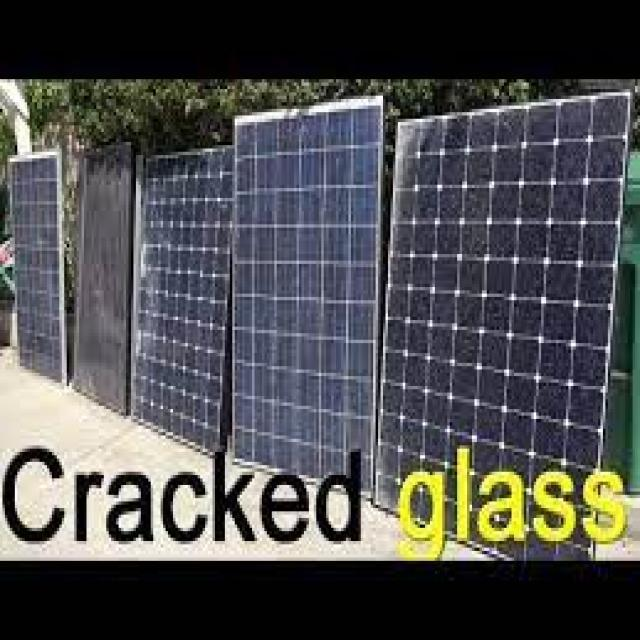faulty: (18, 123, 622, 493), (394, 112, 397, 121)
